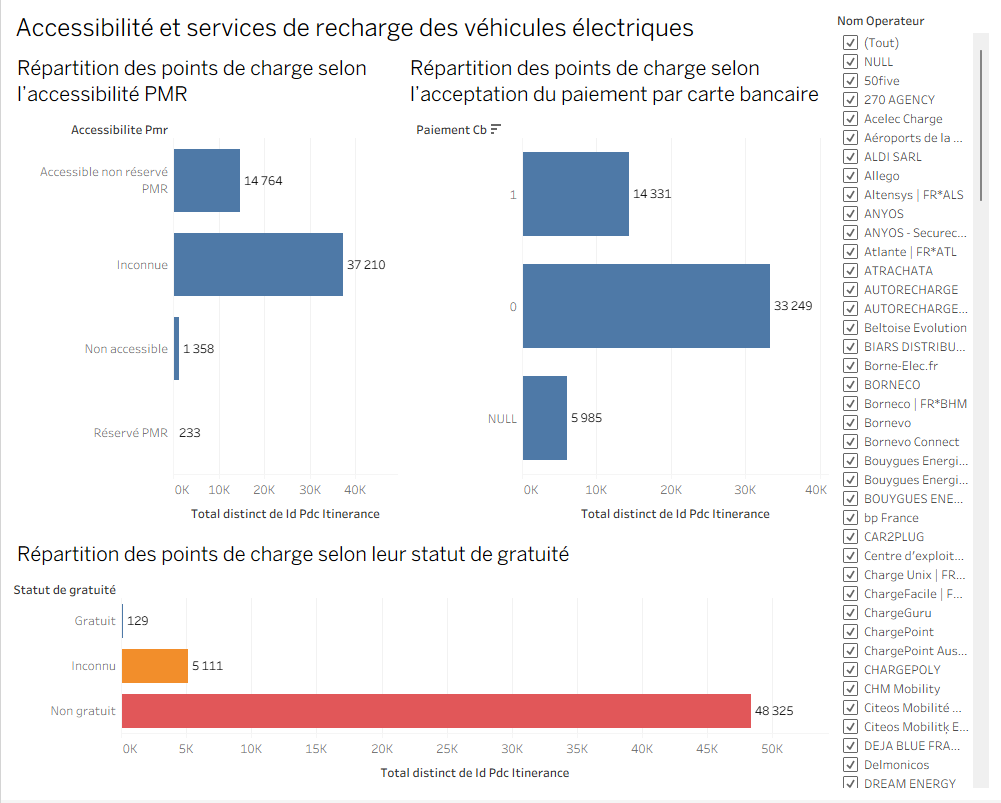

The page's visual inventory and layout, read from the dashboard file:
{"tool":"tableau","page":{"name":"Accessibilité et services","canvas":[1000,800],"ordinal":0},"visuals":[{"type":"title","box":[8,8,824.3,39]},{"type":"filter","title":"Paiement par carte bancaire","param":"[federated.1jgg8bd0r8gsn91gdoh5a1fury0i].[none:nom_operateur:nk]","box":[832.3,8,159.7,784]},{"type":"worksheet","title":"Accessibilité PMR","mark":"Automatic","rows":["accessibilite_pmr"],"cols":["id_pdc_itinerance"],"box":[8,47,393.2,486]},{"type":"worksheet","title":"Paiement par carte bancaire","mark":"Automatic","rows":["paiement_cb"],"cols":["id_pdc_itinerance"],"box":[401.2,47,431.2,486]},{"type":"worksheet","title":"Bornes gratuites","mark":"Automatic","rows":["Calculation_1217226808758273"],"cols":["id_pdc_itinerance"],"box":[8,533,824.3,259]}]}

Visuals, with their boxes in screenshot pixels (x1, y1, x2, y2), scaled from the page's 1000x800 canvas onto the 1001x803 screenshot:
title: [8, 8, 833, 47]
"Paiement par carte bancaire" filter: [833, 8, 993, 795]
"Accessibilité PMR" worksheet: [8, 47, 402, 535]
"Paiement par carte bancaire" worksheet: [402, 47, 833, 535]
"Bornes gratuites" worksheet: [8, 535, 833, 795]
